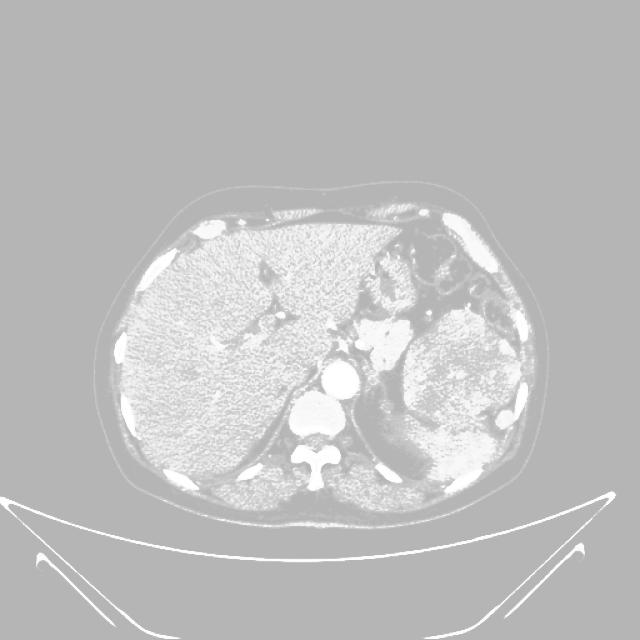TUMOR: (354, 266, 562, 482)
